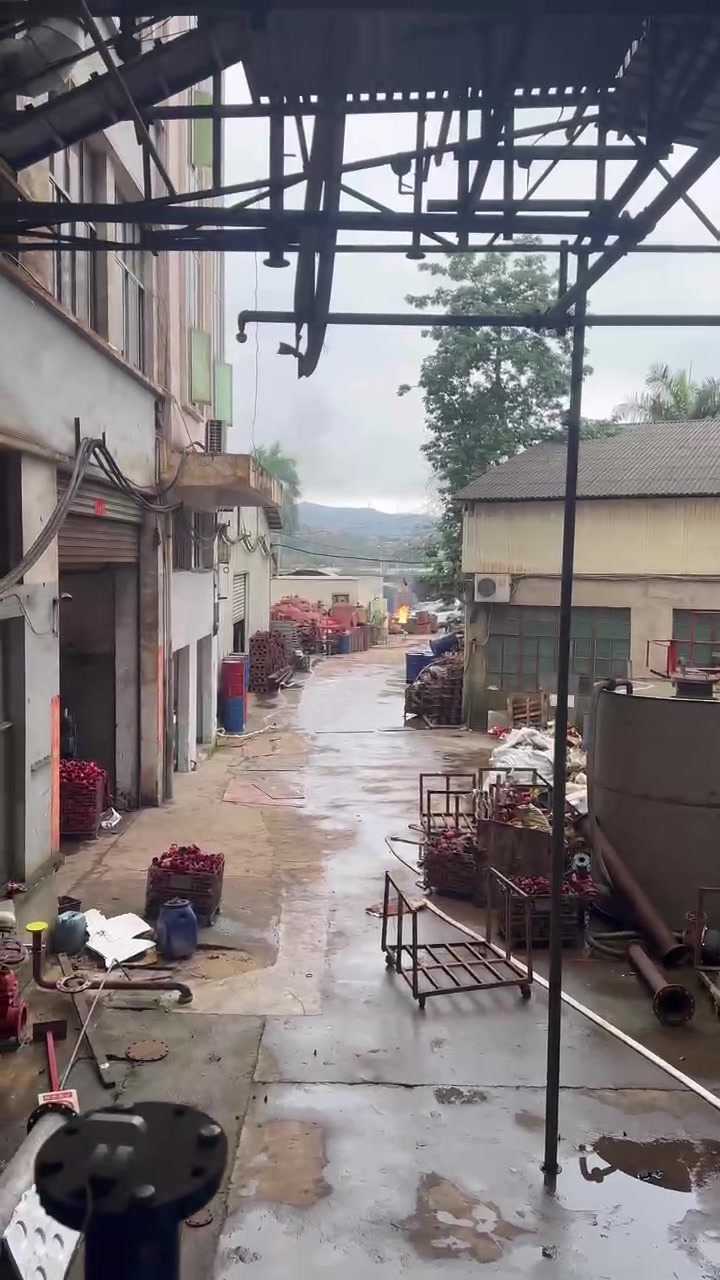fire: (396, 603, 410, 623)
